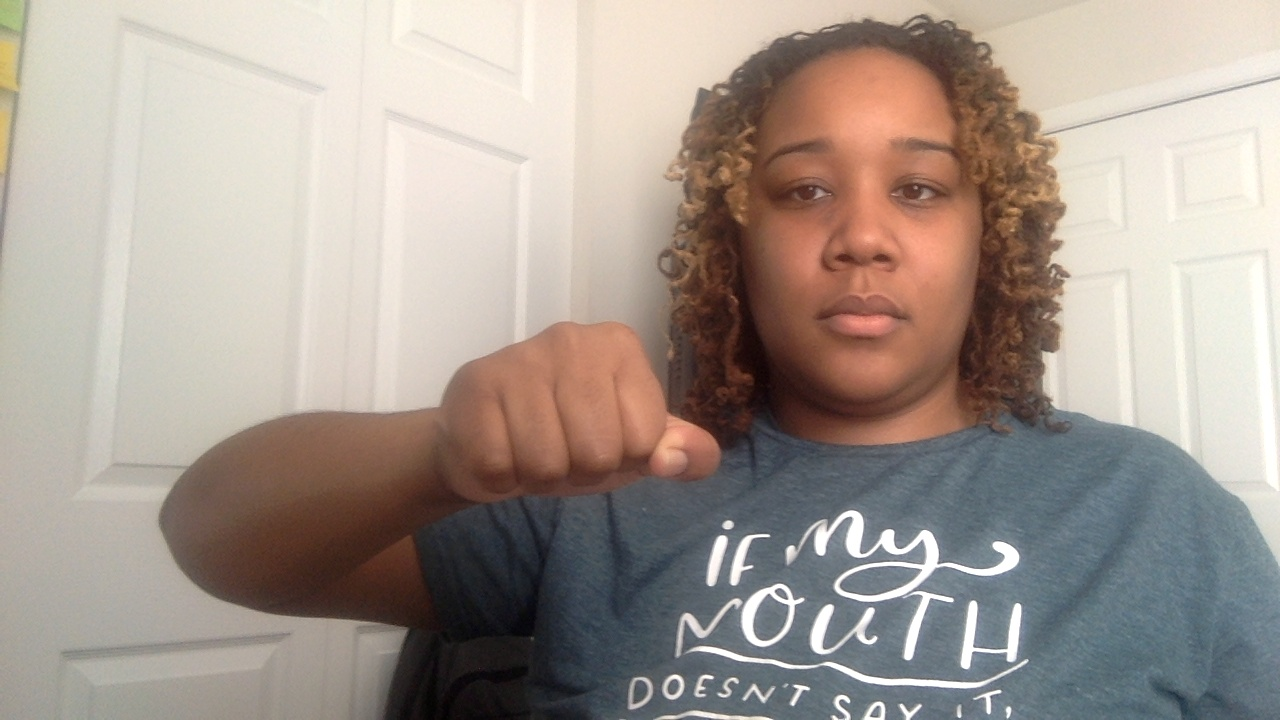yes: (353, 297, 722, 550)
